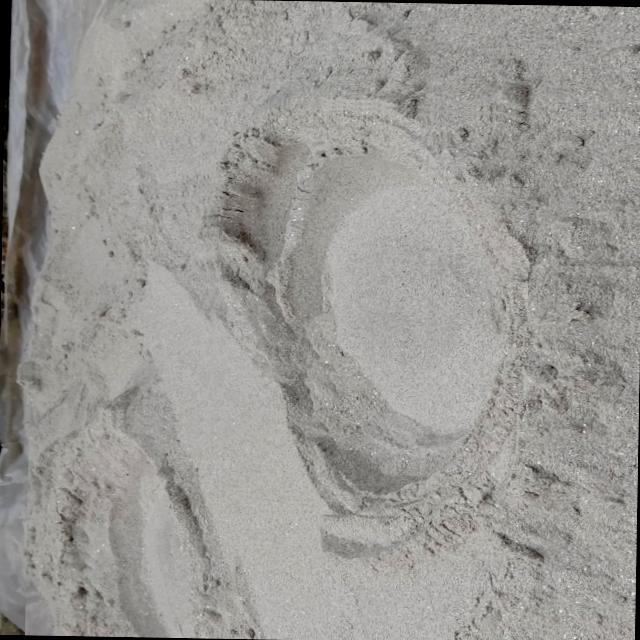C20: (205, 101, 528, 514), (26, 414, 234, 638)
